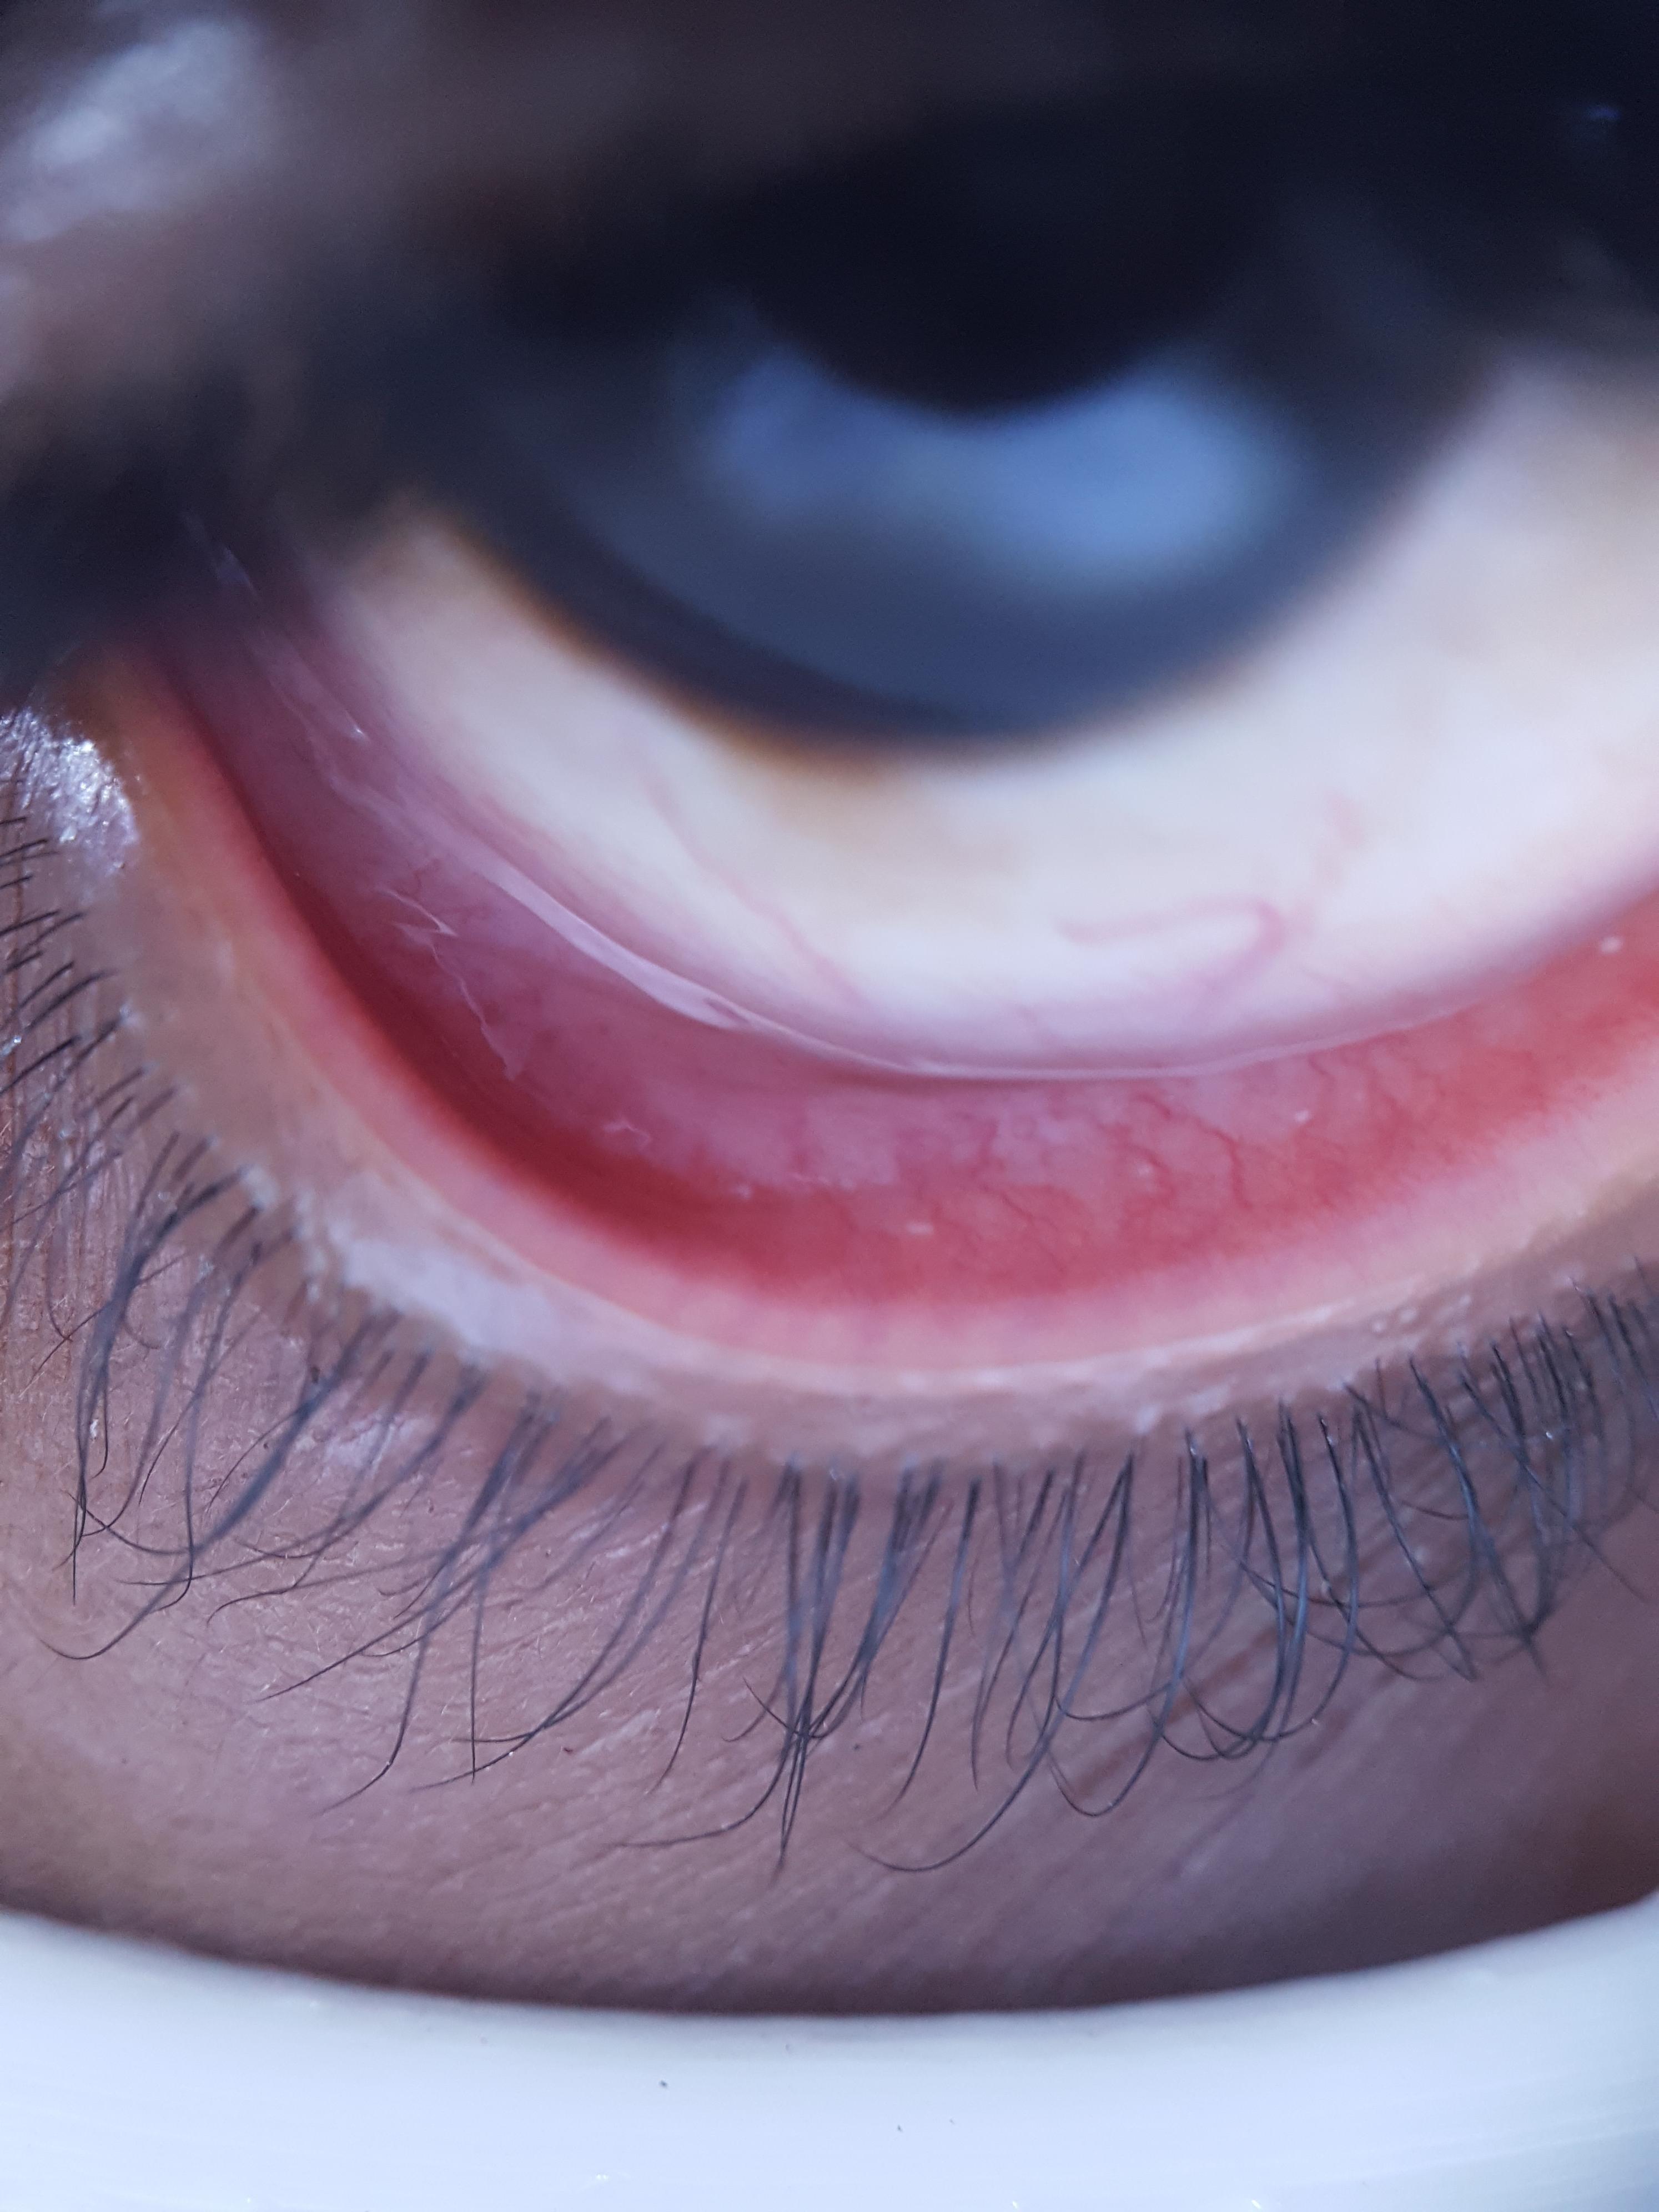forniceal: (329, 819, 1659, 1165)
forniceal_palpebral: (258, 801, 1659, 1301)
palpebral: (267, 819, 1659, 1292)
